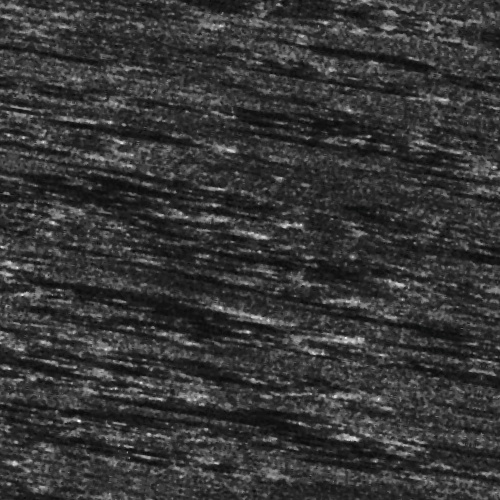object: (0, 297, 71, 324), (213, 305, 296, 318), (294, 313, 387, 324), (342, 247, 415, 260), (148, 148, 241, 157), (164, 188, 247, 197), (435, 126, 500, 135), (28, 178, 111, 185), (1, 144, 84, 149), (341, 412, 394, 419), (39, 85, 112, 90), (341, 64, 394, 69), (390, 33, 443, 38), (434, 496, 475, 500), (168, 345, 221, 348)
shadow: (37, 305, 254, 318), (198, 126, 482, 135), (186, 247, 378, 260), (127, 313, 341, 324), (146, 412, 367, 419), (34, 148, 194, 157), (45, 188, 205, 197), (389, 211, 500, 222), (214, 64, 367, 69), (265, 33, 417, 38), (326, 496, 454, 500), (0, 178, 69, 185), (0, 85, 75, 90), (99, 345, 194, 348), (0, 144, 43, 149)
